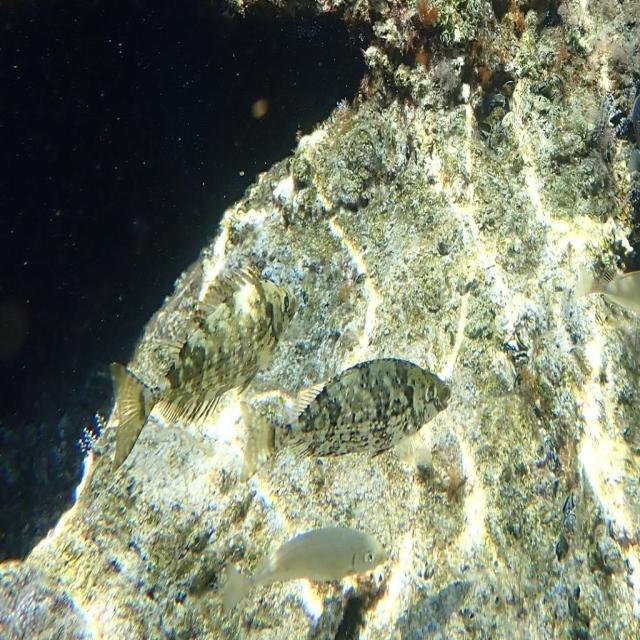Sokar Baligi: (237, 349, 473, 493), (213, 515, 394, 627)
